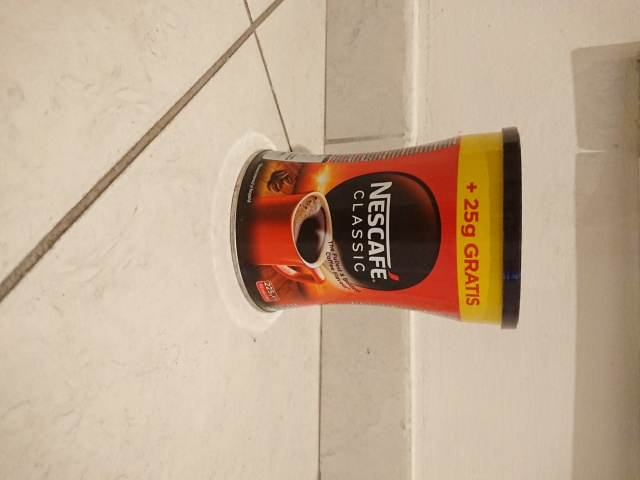Nescafe Classic 225g: (225, 123, 526, 332)
